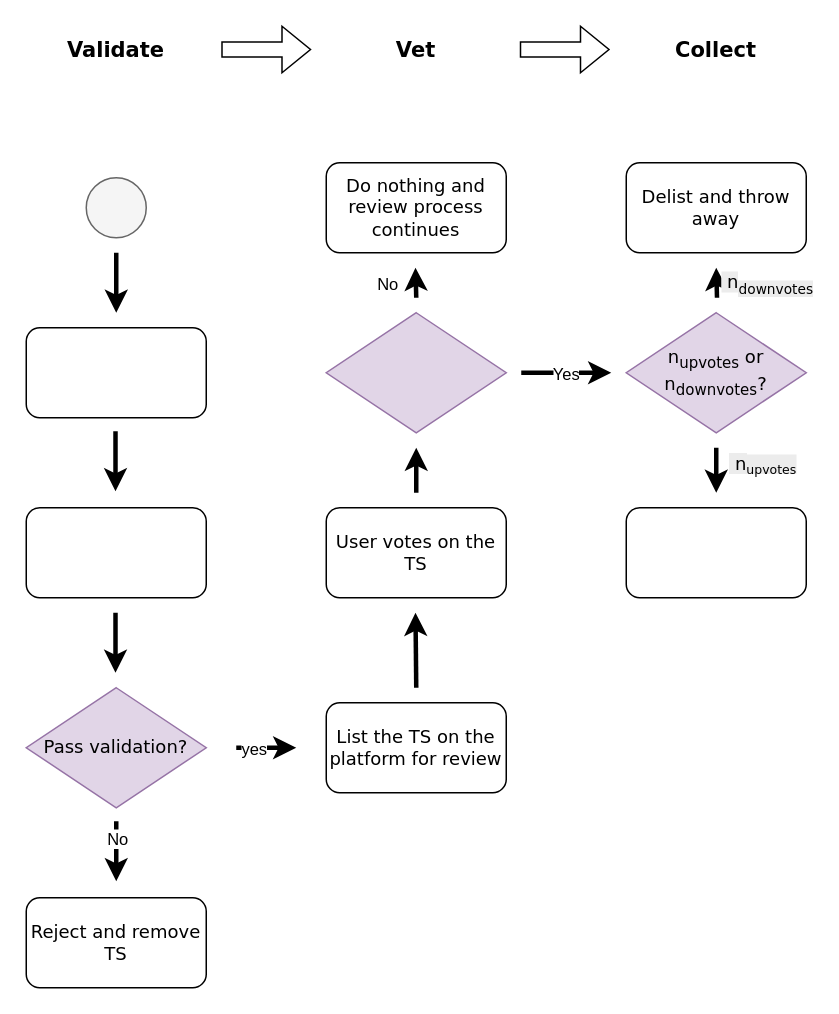
The diagram is 839 pixels wide and 1014 high, and some of its shapes have lost their labels. Each missing label, with the box of its shape:
Check TS for prohibited words and disallowed data and etc: (25, 506, 206, 598)
Delist and collect: (625, 506, 806, 598)
User recommends a text sample (TS): (25, 326, 206, 418)
Vet threshold crossed?: (325, 311, 506, 433)
